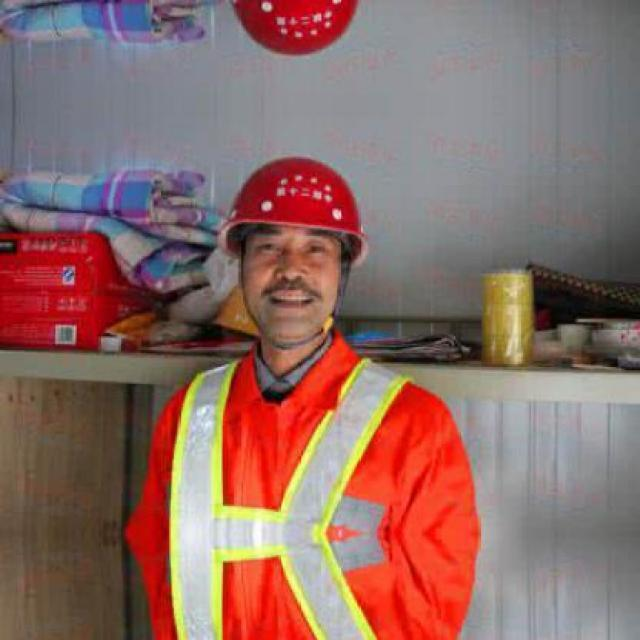reflective_jacket: (104, 347, 495, 631)
safety_helmet: (197, 146, 390, 269)
